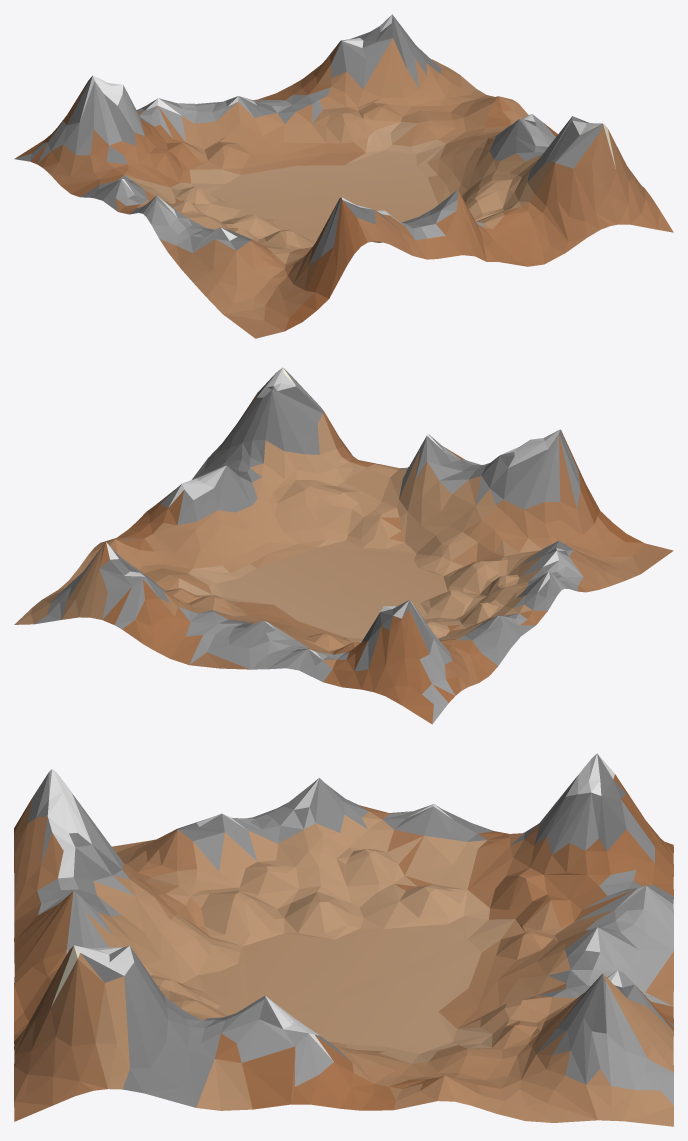
Rendered from DesertMap.glb.
3 views of the same model, one above another, from view 1: azimuth 30°, elevation 25°; view 2: azimuth 150°, elevation 25°; view 3: azimuth 270°, elevation 25° (orthographic). The views are drawn at different scales.
Parts seen in each view (by area): view 1: DesertMap_MountainsDeci_col; view 2: DesertMap_MountainsDeci_col; view 3: DesertMap_MountainsDeci_col.
Boxes of the visible parts, left/top/right/bottom form: DesertMap_MountainsDeci_col: left=14, top=14, right=673, bottom=338; DesertMap_MountainsDeci_col: left=14, top=367, right=673, bottom=724; DesertMap_MountainsDeci_col: left=14, top=753, right=673, bottom=1126.
Size of the model in its own units: 288 by 71.89 by 288.
1 material, 1 textured.
